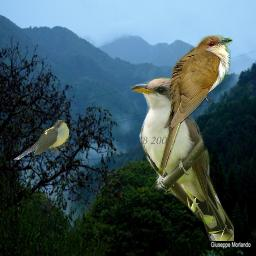Cuckoo: (130, 76, 234, 241), (157, 35, 233, 176), (13, 120, 69, 160)
